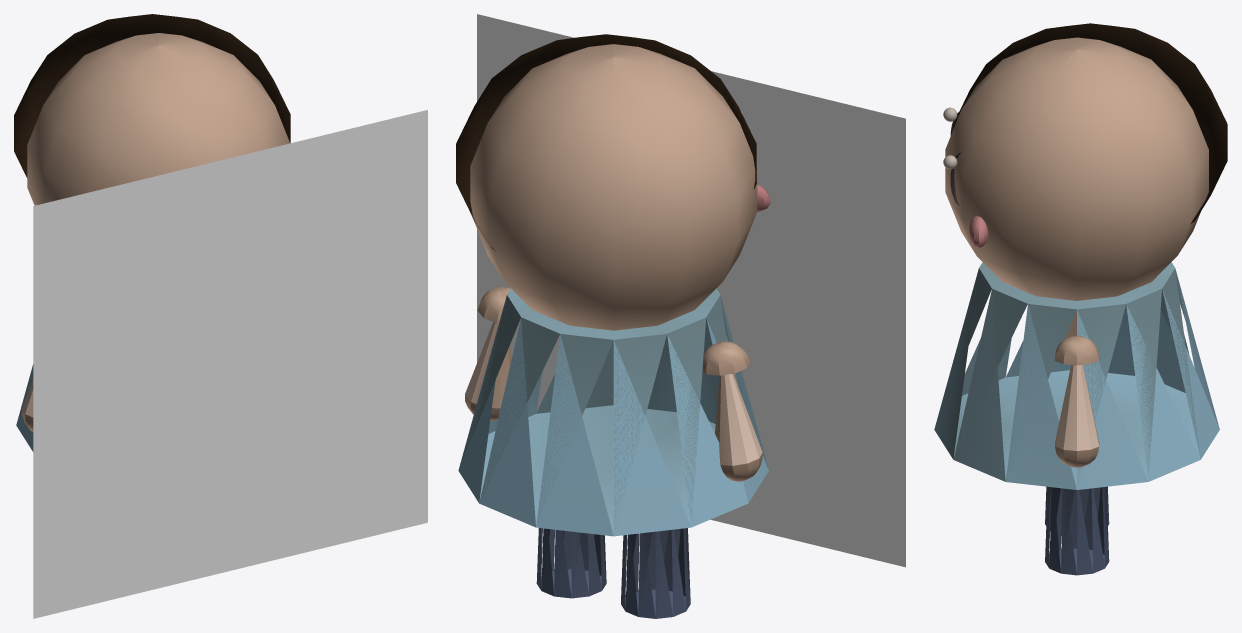
The picture shows the model from 3 angles, left to right: view 1: azimuth 30°, elevation 25°; view 2: azimuth 150°, elevation 25°; view 3: azimuth 270°, elevation 25°; orthographic projection. The views are drawn at different scales.
Parts seen in each view (by area): view 1: pet_p5ac8e959; view 2: pet_p5ac8e959; view 3: pet_p5ac8e959.
Boxes of the visible parts, left/top/right/bottom form: pet_p5ac8e959: left=14, top=14, right=427, bottom=618; pet_p5ac8e959: left=456, top=14, right=905, bottom=618; pet_p5ac8e959: left=934, top=23, right=1227, bottom=575.
Bounding box in the file's own units: 0.51 × 0.625 × 0.3287.
